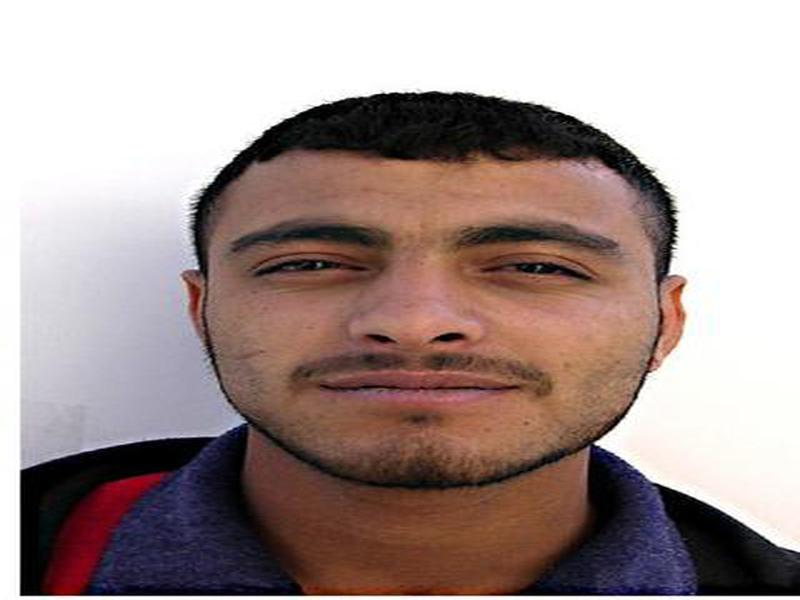without_mask: (204, 167, 655, 482)
